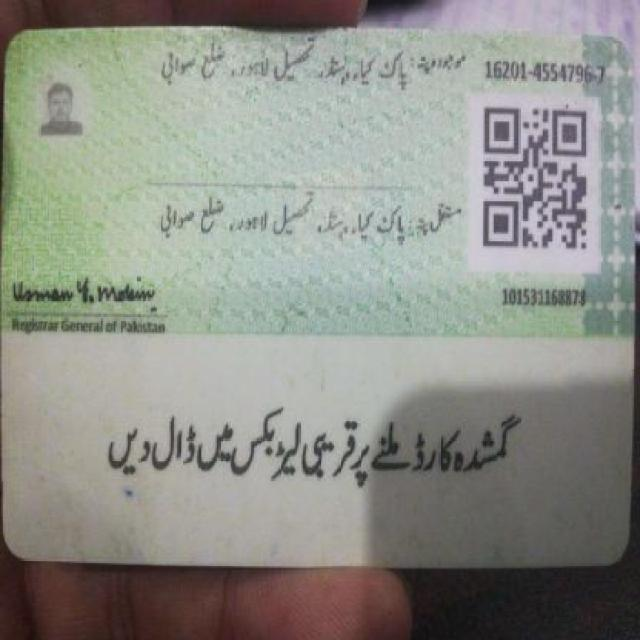Back: (9, 21, 628, 578)
